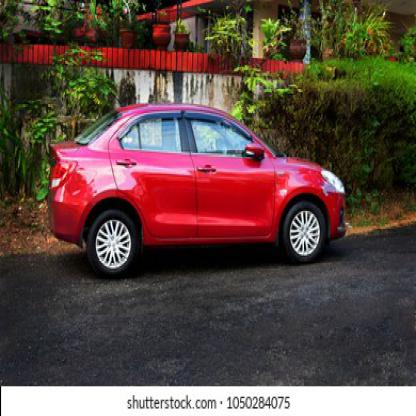car: (47, 102, 347, 276)
